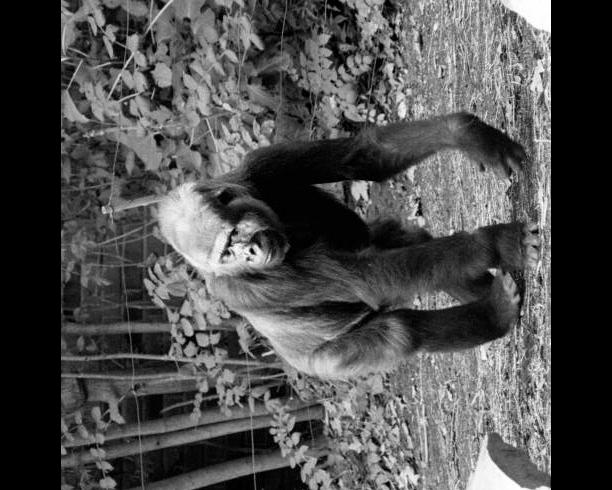gorille_Autres: (110, 50, 551, 406)
